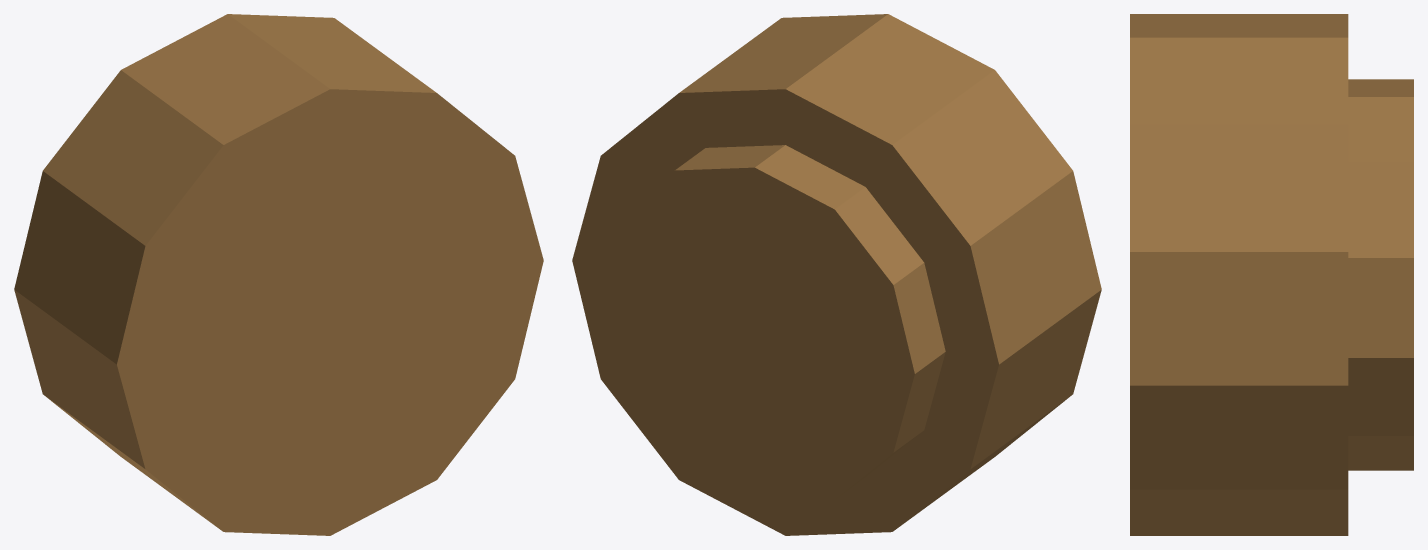
File: original-3.obj
3 renders of one model, left to right at view 1: azimuth 30°, elevation 25°; view 2: azimuth 150°, elevation 25°; view 3: azimuth 270°, elevation 25°, orthographic. The views are drawn at different scales.
Parts seen in each view (by area): view 1: mesh3/mesh3-geometry#mesh3-geometry; view 2: mesh3/mesh3-geometry#mesh3-geometry; view 3: mesh3/mesh3-geometry#mesh3-geometry.
Boxes of the visible parts, box(x1,y1,x2,y2) form: mesh3/mesh3-geometry#mesh3-geometry: box(14, 14, 543, 535); mesh3/mesh3-geometry#mesh3-geometry: box(572, 14, 1101, 535); mesh3/mesh3-geometry#mesh3-geometry: box(1130, 14, 1413, 535).
Bounding box in the file's own units: 0.1005 × 0.1005 × 0.0544.
